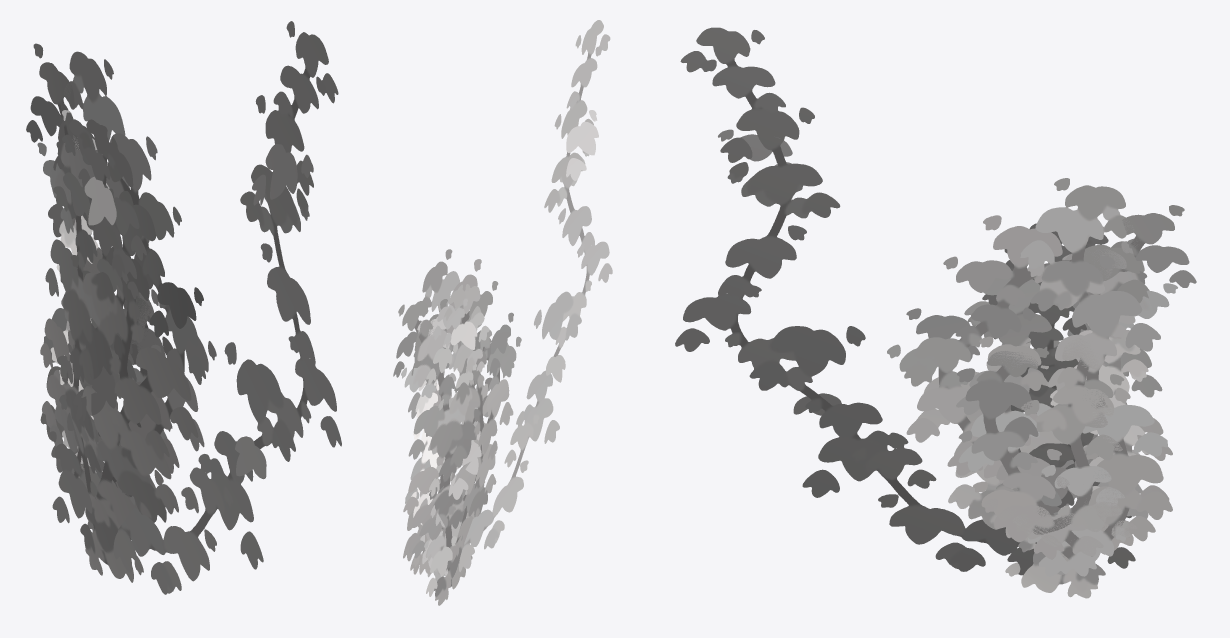
File: VinePieces.fbx
3 renders of one model, left to right at view 1: azimuth 30°, elevation 25°; view 2: azimuth 150°, elevation 25°; view 3: azimuth 270°, elevation 25°, orthographic. The views are drawn at different scales.
Visible parts, largest first — view 1: VinePiece3, VinePiece1, VinePiece2, VinePiece7, VinePiece6, VinePiece8, VinePiece5; view 2: VinePiece3, VinePiece1, VinePiece2, VinePiece6, VinePiece7, VinePiece8; view 3: VinePiece1, VinePiece6, VinePiece7, VinePiece3, VinePiece4, VinePiece5, VinePiece2, VinePiece8.
Part boxes in pixels (x1,y1,x2,y2): VinePiece3: (33,43,203,582); VinePiece1: (71,21,341,594); VinePiece2: (50,119,146,523); VinePiece7: (53,121,216,496); VinePiece6: (26,51,167,531); VinePiece8: (50,110,109,477); VinePiece5: (117,297,172,488); VinePiece3: (398,301,513,605); VinePiece1: (425,20,612,571); VinePiece2: (424,284,489,596); VinePiece6: (393,249,488,580); VinePiece7: (411,259,521,574); VinePiece8: (411,317,450,576); VinePiece1: (675,27,1036,575); VinePiece6: (956,178,1196,576); VinePiece7: (887,215,1149,561); VinePiece3: (906,205,1184,598); VinePiece4: (982,335,1136,559); VinePiece5: (957,348,1103,556); VinePiece2: (982,223,1135,568); VinePiece8: (1050,241,1148,574).
Bounding box in the file's own units: 21.11 × 400 × 337.
